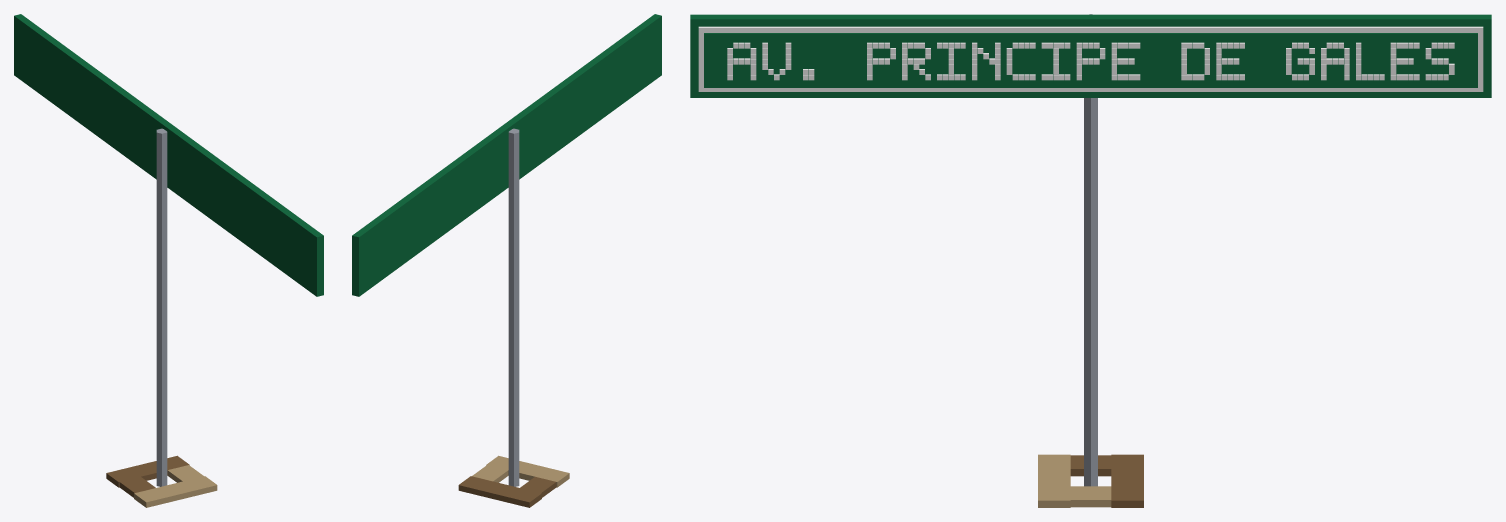
The model's file is letrero_calle_principe_gales.obj.
3 renders of one model, left to right at view 1: azimuth 30°, elevation 25°; view 2: azimuth 150°, elevation 25°; view 3: azimuth 270°, elevation 25°, orthographic. The views are drawn at different scales.
Parts seen in each view (by area): view 1: letrero_calle_principe_gales; view 2: letrero_calle_principe_gales; view 3: letrero_calle_principe_gales.
Part boxes in pixels (x1=…): letrero_calle_principe_gales: x1=14, y1=14, x2=323, y2=507; letrero_calle_principe_gales: x1=352, y1=14, x2=661, y2=507; letrero_calle_principe_gales: x1=690, y1=14, x2=1491, y2=507.
Bounding box in the file's own units: 0.8 × 3.84 × 5.9.
